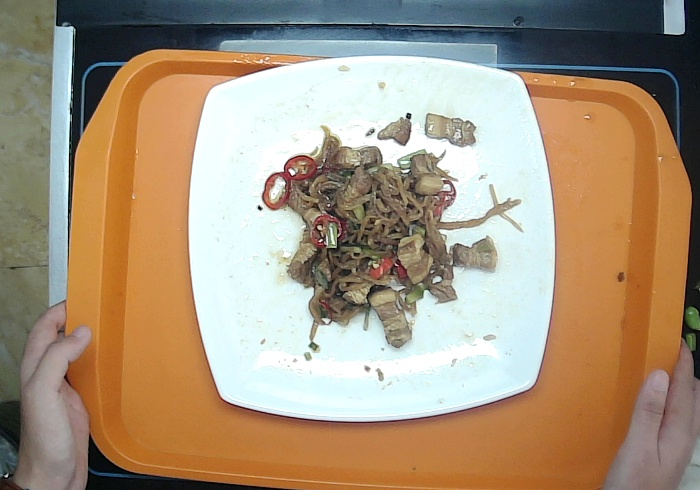ZNLD-Bai_Fang_Pan: (185, 52, 559, 423)
